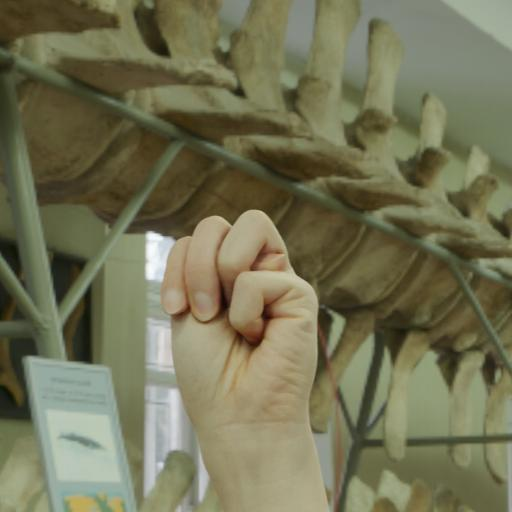M: (157, 207, 326, 423)
